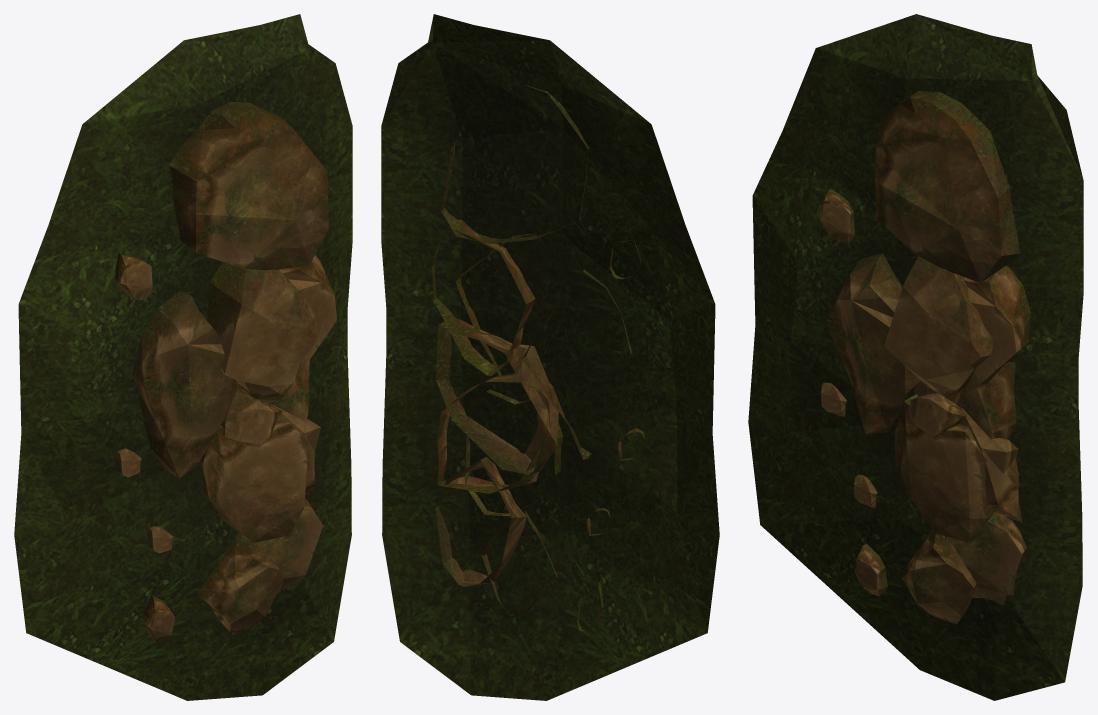
Rendered from huodong_fuben_238_n_litter03.obj.
3 renders of one model, left to right at view 1: azimuth 30°, elevation 25°; view 2: azimuth 150°, elevation 25°; view 3: azimuth 330°, elevation 25°, orthographic.
Visible parts, largest first — view 1: huodong_fuben_238_n_litter03; view 2: huodong_fuben_238_n_litter03; view 3: huodong_fuben_238_n_litter03.
Part boxes in pixels (left/top/right/bottom): huodong_fuben_238_n_litter03: left=14, top=14, right=352, bottom=700; huodong_fuben_238_n_litter03: left=381, top=14, right=719, bottom=700; huodong_fuben_238_n_litter03: left=748, top=14, right=1083, bottom=700.
Bounding box in the file's own units: 404 × 770 × 77.96.
3 materials, 3 textured.
